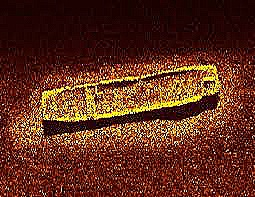ship: (41, 64, 220, 124)
